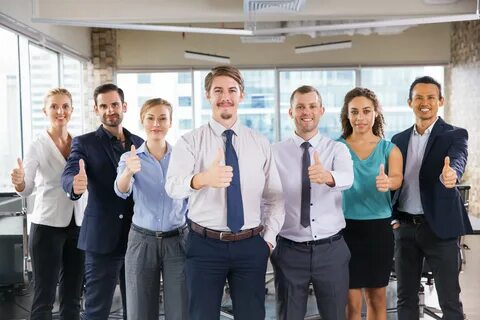awake: (168, 63, 277, 320), (391, 75, 469, 320), (269, 85, 349, 320), (18, 87, 85, 320), (71, 83, 135, 320), (336, 87, 400, 320), (123, 97, 186, 320)
